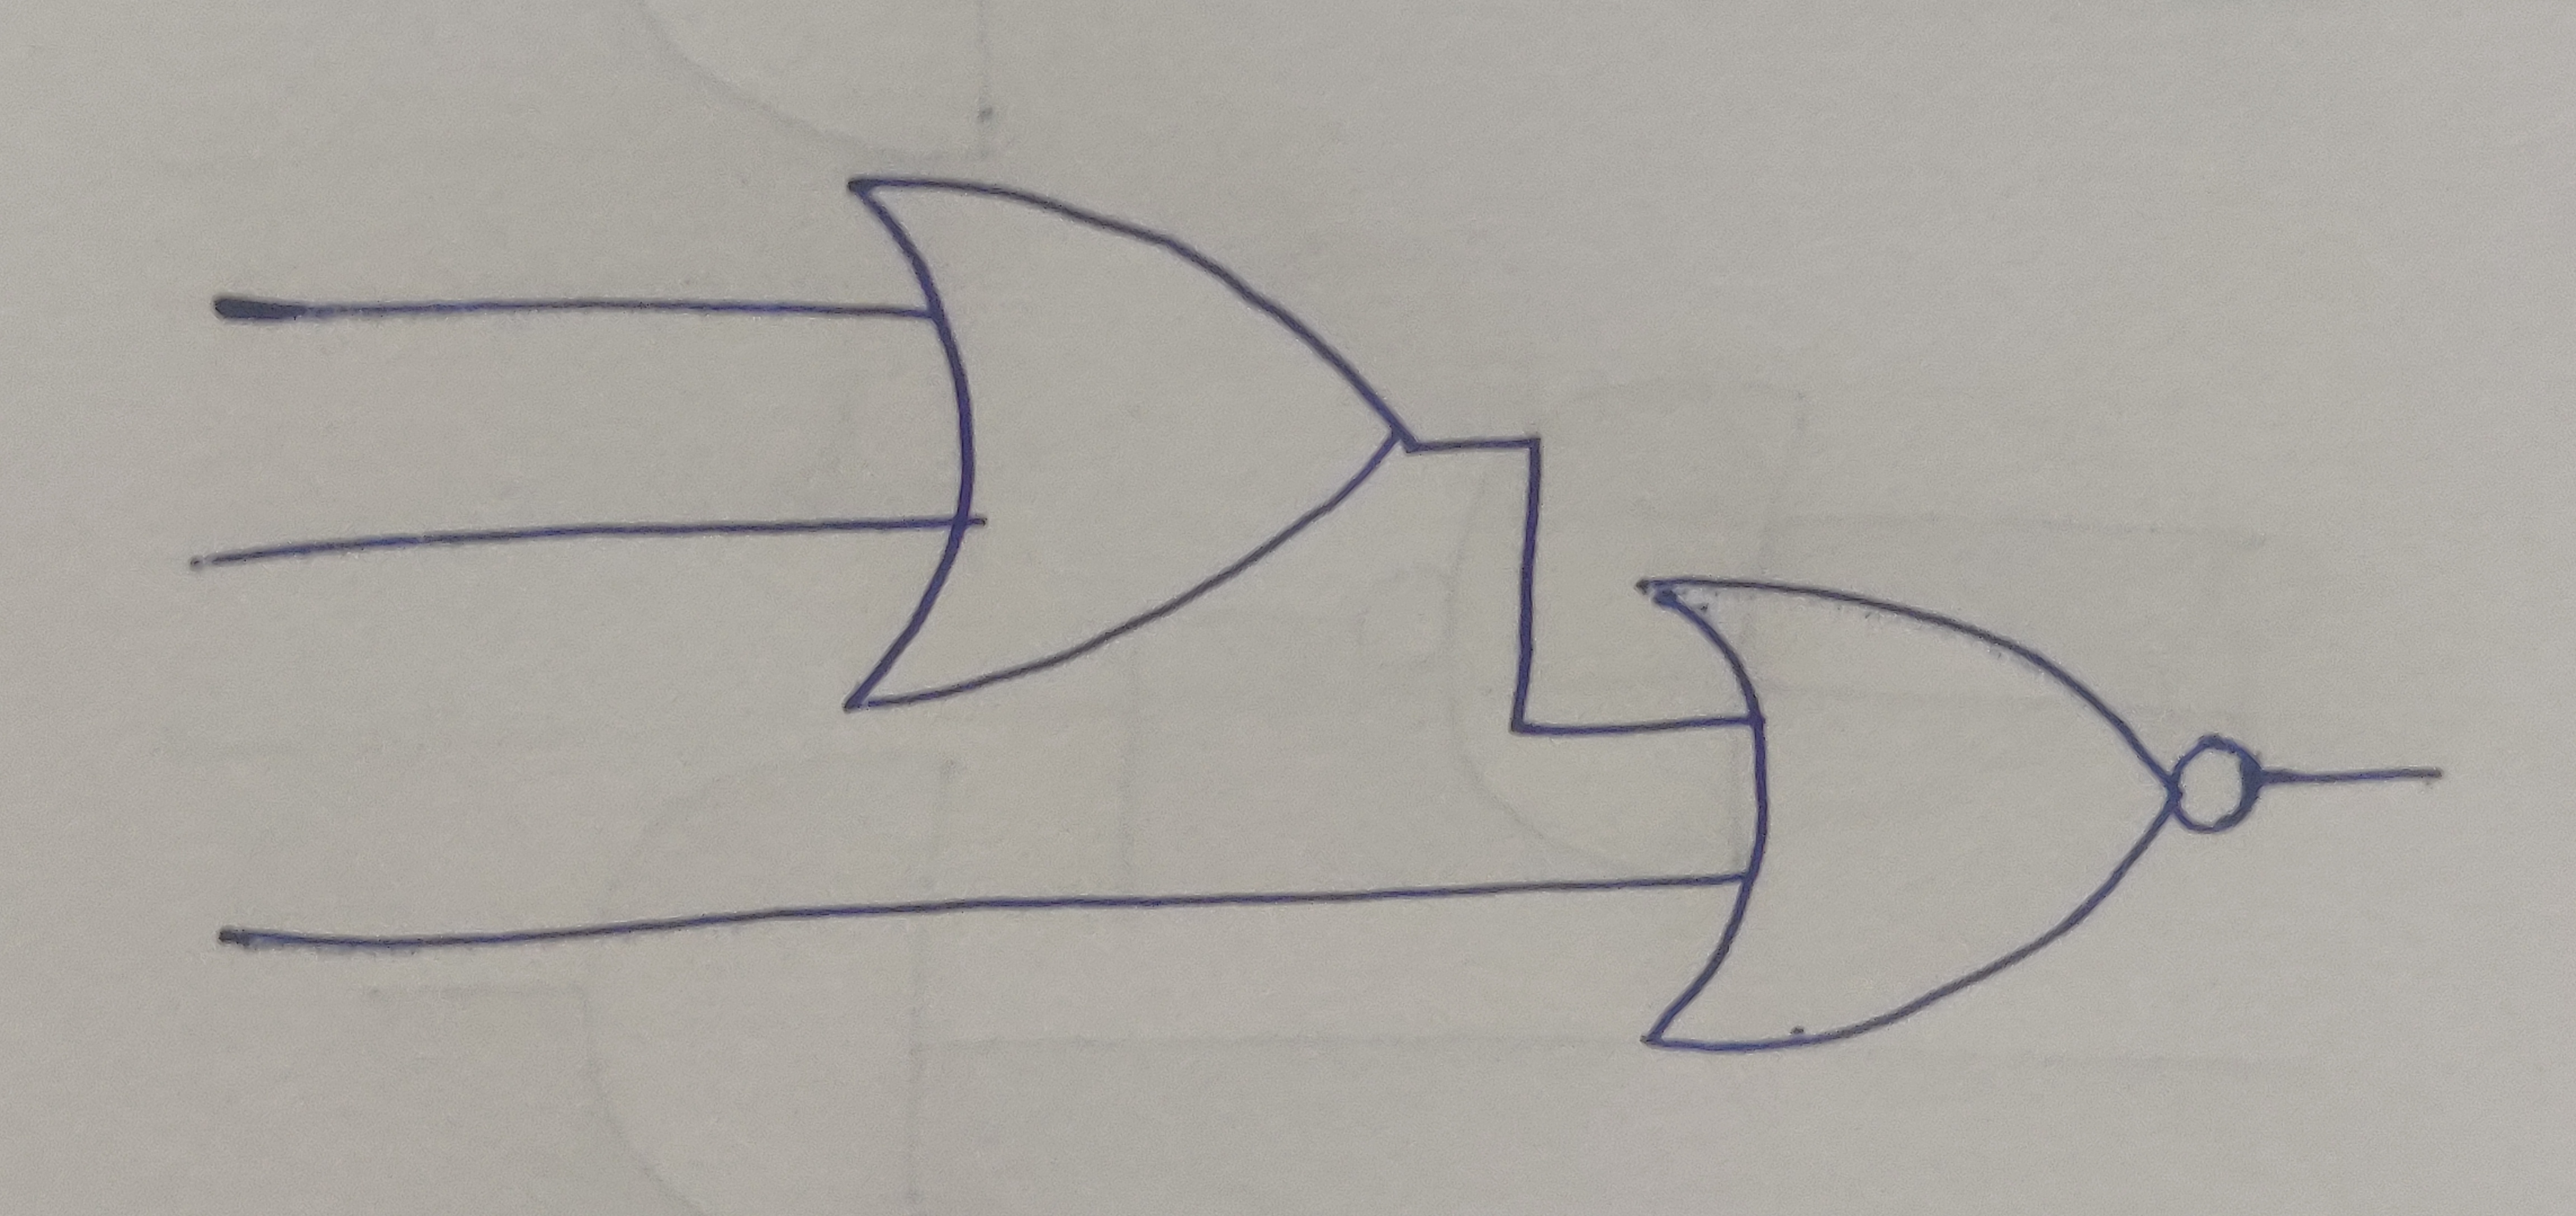not: (2169, 733, 2267, 841)
or: (831, 171, 1413, 716), (1633, 575, 2175, 1065)
